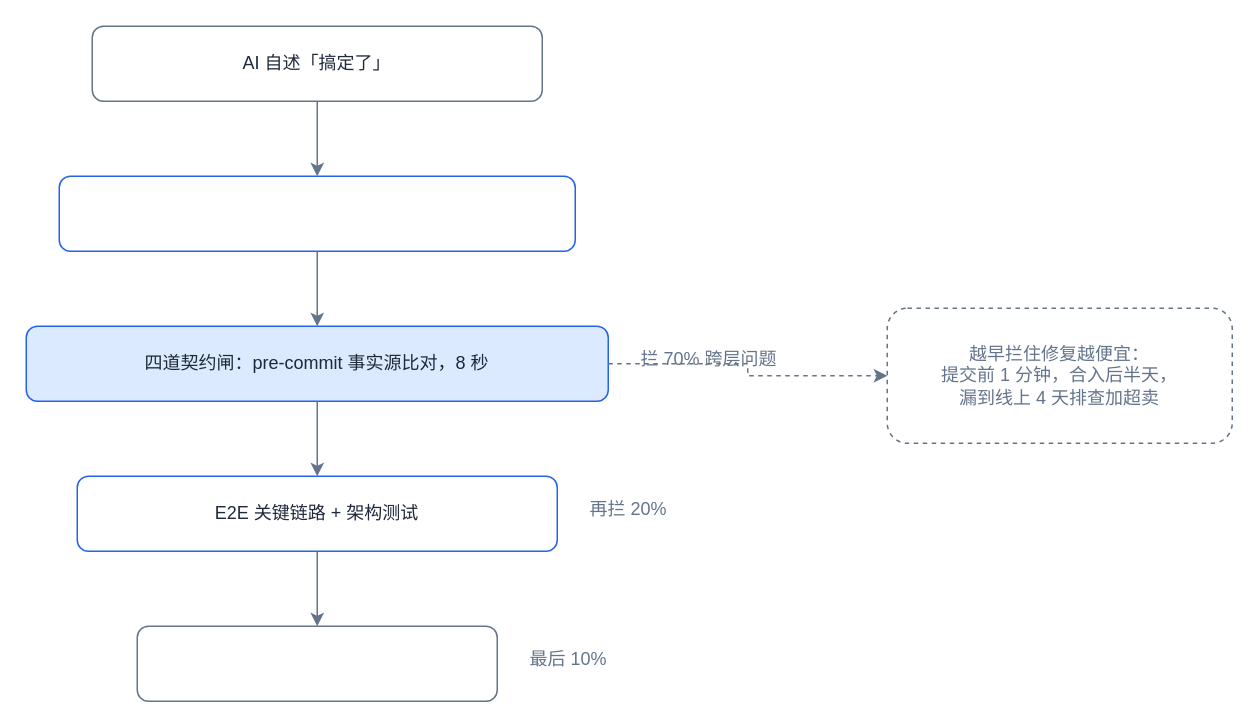
The diagram is 1259 pixels wide and 728 high, and some of its shapes have lost their labels. The shapes that lost their labels are listed below. From the top down, each one's centre as x and y in pixels, then its label:
(x=316, y=213): UT / IT：禁 skip · 禁占位断言 · 反向断言
(x=316, y=663): 人工抽查 + 视觉验收
